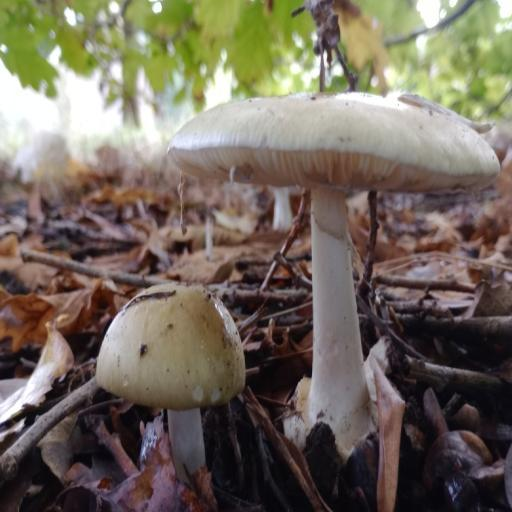mushroom: (88, 11, 512, 444), (75, 256, 292, 480)
